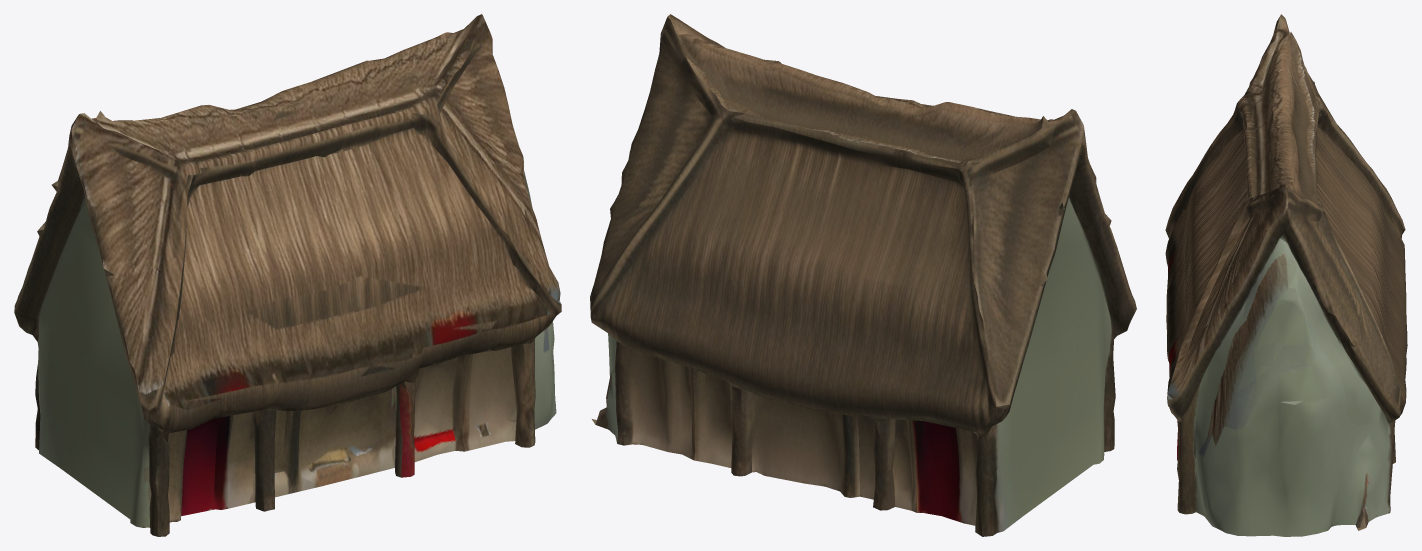
File: palmares_cuartel.glb
3 renders of one model, left to right at view 1: azimuth 30°, elevation 25°; view 2: azimuth 150°, elevation 25°; view 3: azimuth 270°, elevation 25°, orthographic. The views are drawn at different scales.
Parts seen in each view (by area): view 1: geometry_0; view 2: geometry_0; view 3: geometry_0.
Boxes of the visible parts, x1,y1,x2,y2 form: geometry_0: [14, 14, 561, 536]; geometry_0: [590, 14, 1136, 536]; geometry_0: [1165, 14, 1407, 536].
Size of the model in its own units: 2.4 by 1.9 by 1.25.
Materials: 1 (1 with a texture image).
